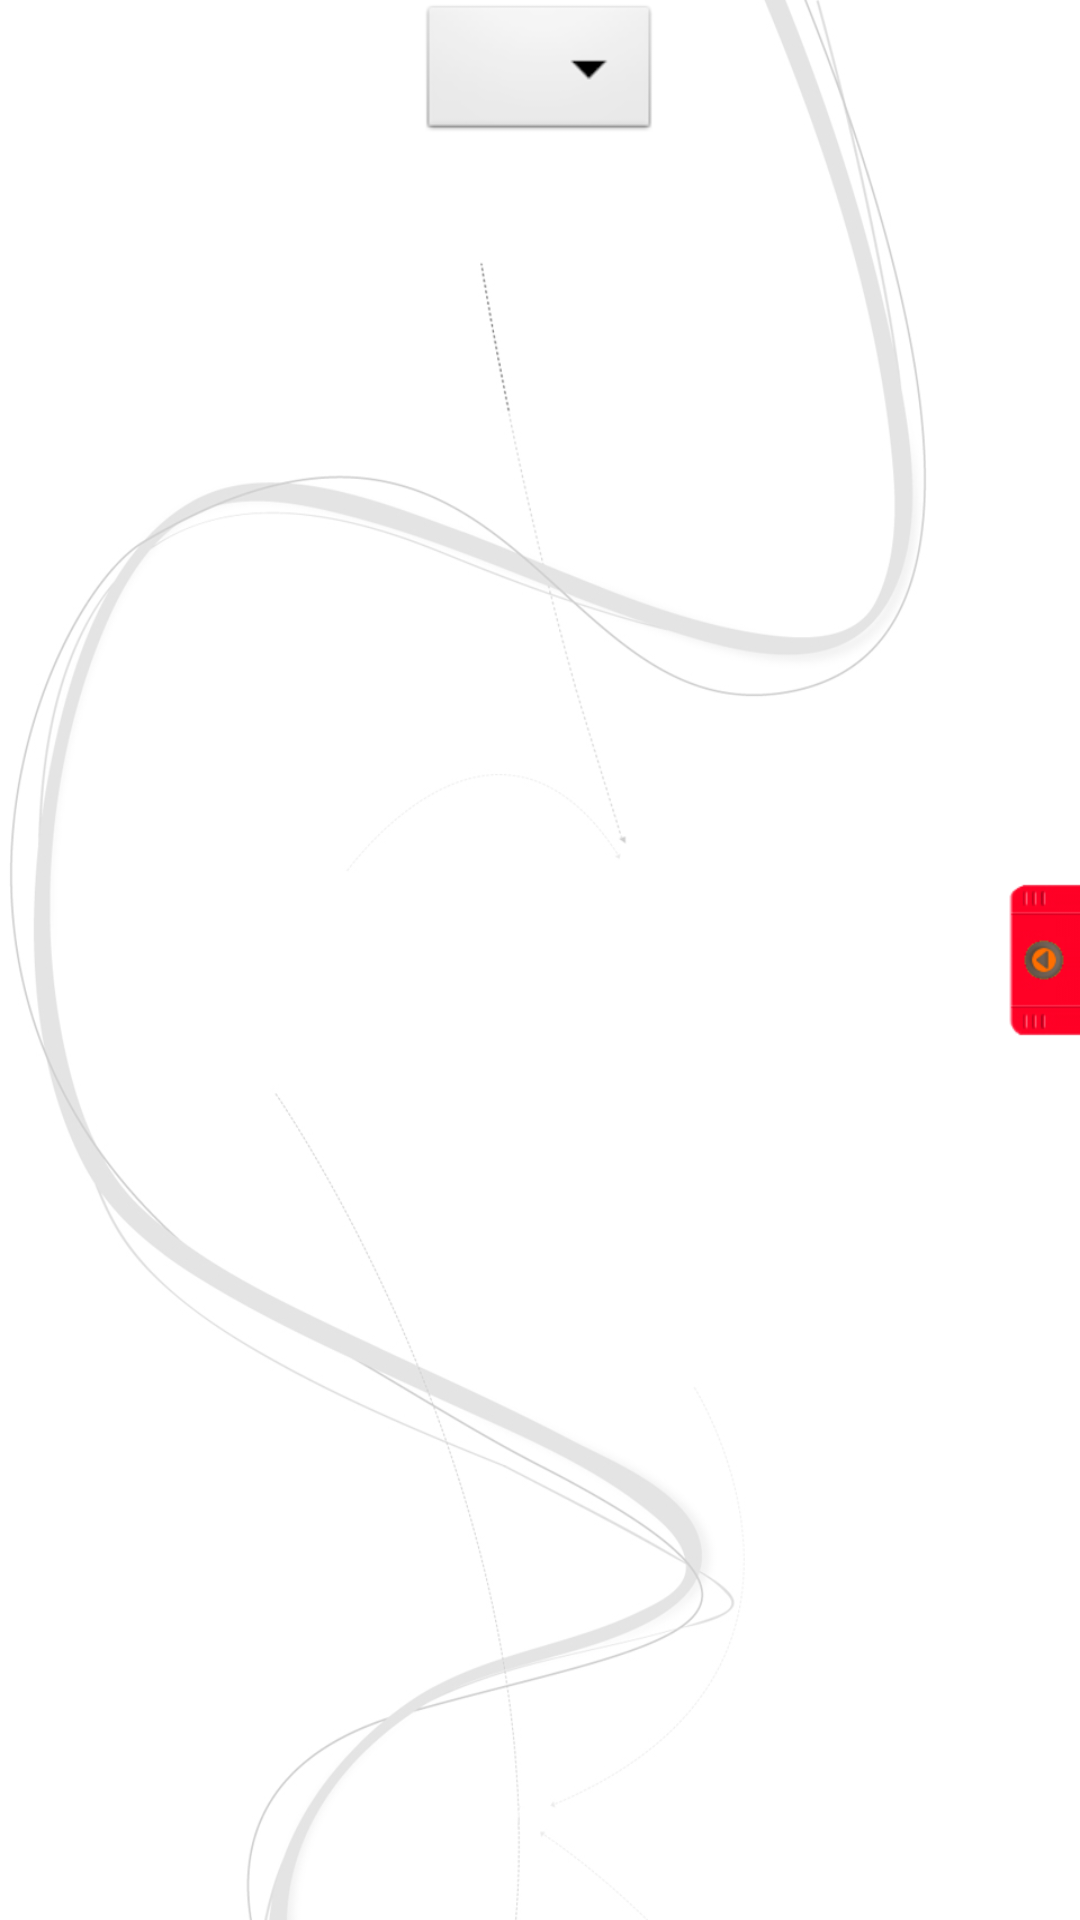

Screen size 1080 × 1920. Icon name, then its center in pixels as [x,y]:
freccia chiusa: [1044,960]
